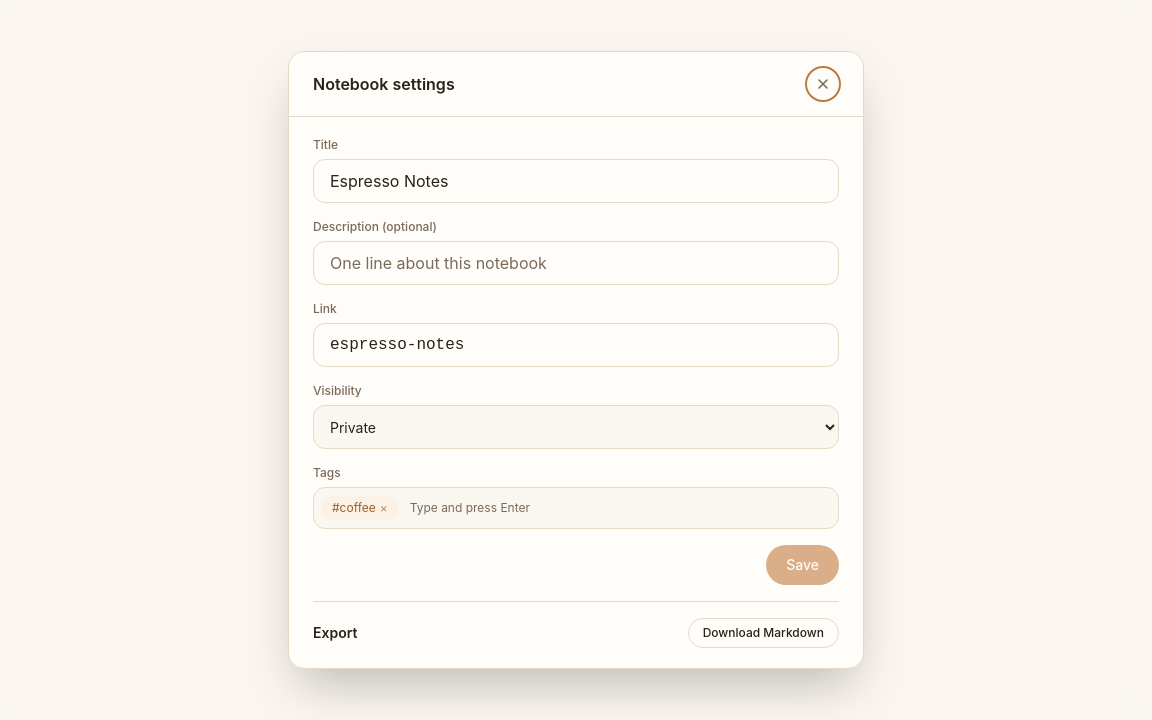
it: NotebookSettingsDialog › shows the themed copy when the server refuses the slug
This screenshot has width=1152, height=720.
Clear the field showing "espresso-notes" at x=576, y=345, box [313,323,839,367]
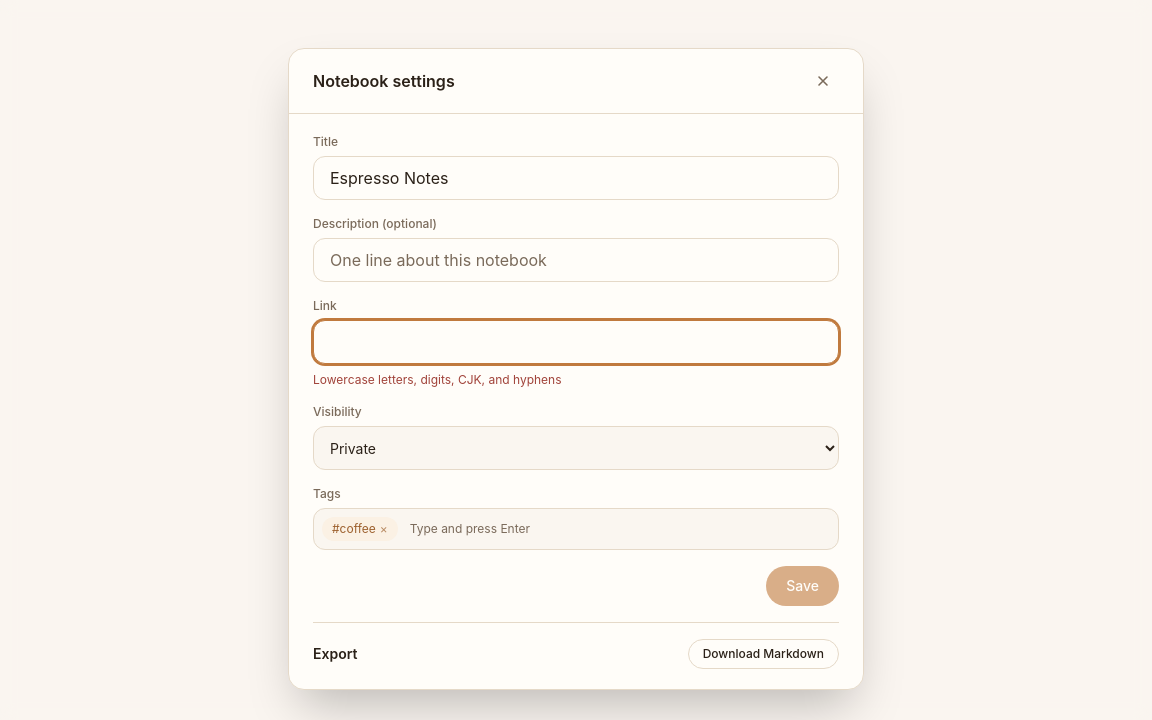
Type "filter-notes" into the field showing "espresso-notes" at x=576, y=342, box [313,320,839,364]
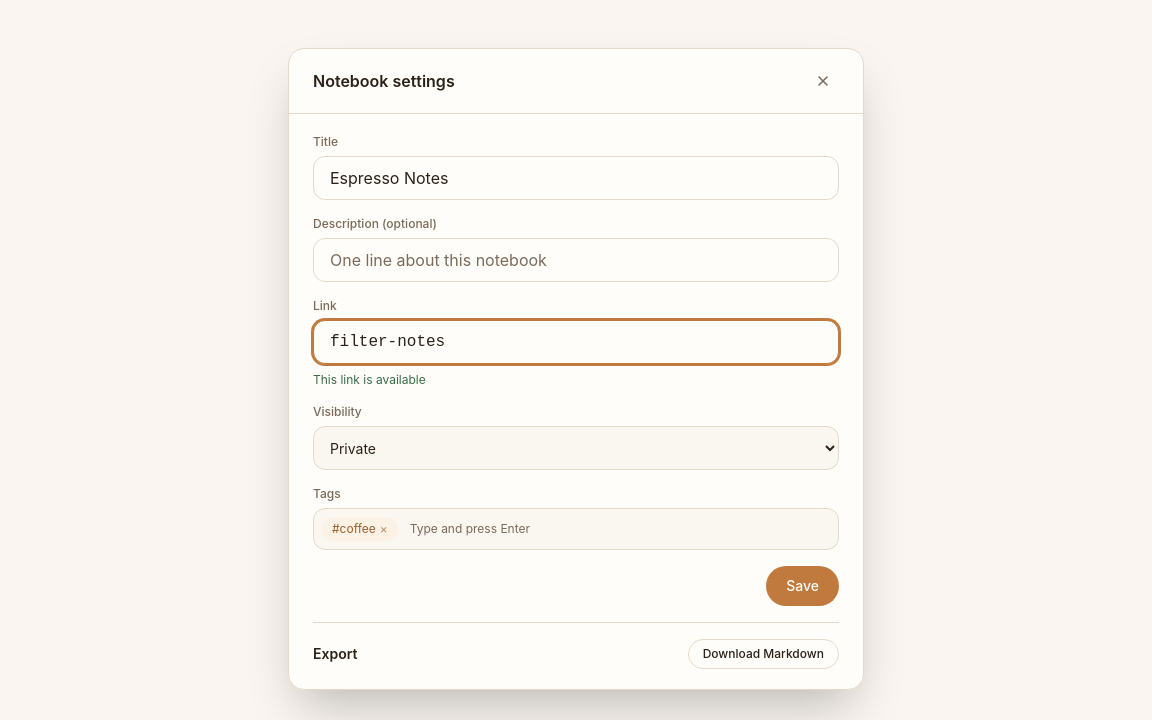
Result: the text "This link is available" is shown at [313,372,426,387]
Click the button "Save" at x=803, y=586, box [766,566,839,606]
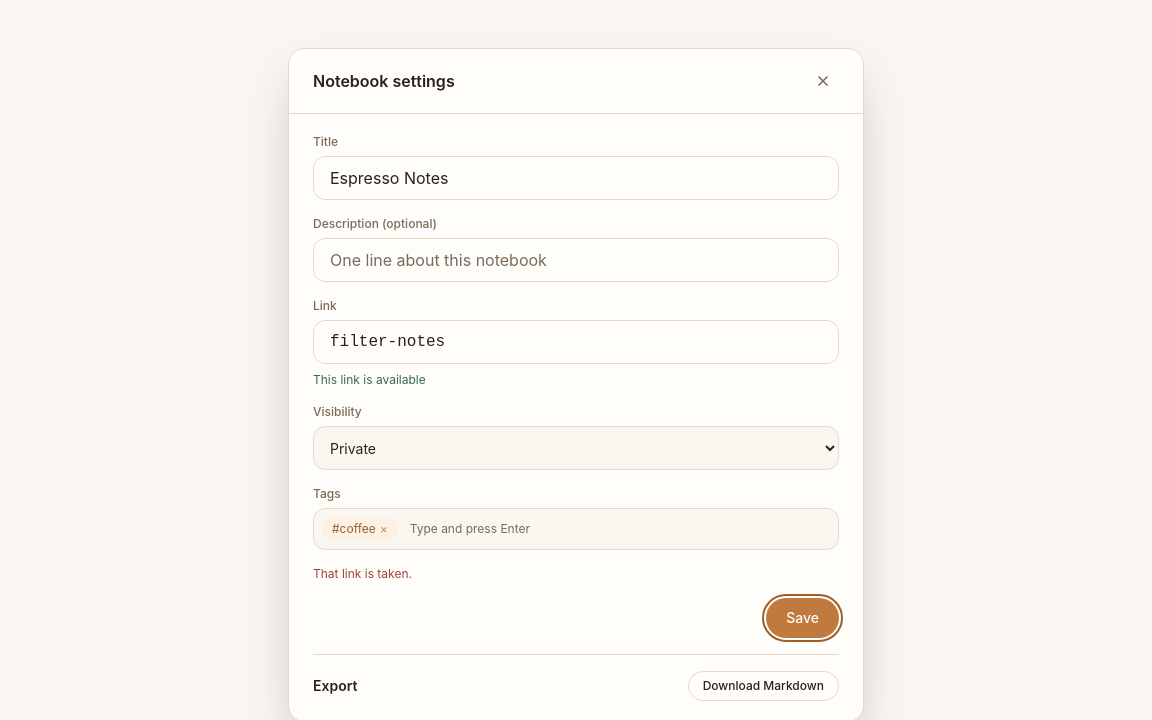
Result: the message reads "That link is taken." at [313,566,412,581]
